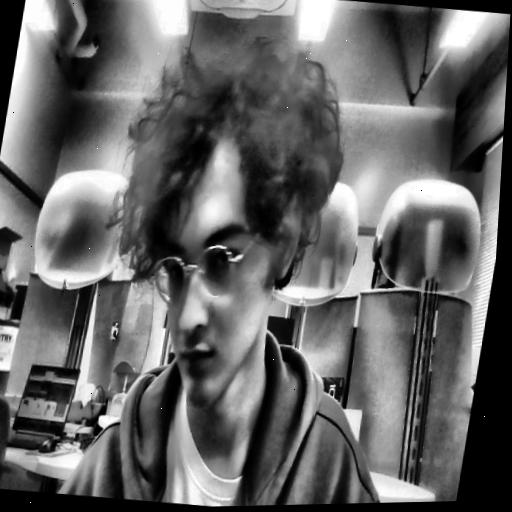Daifuku: (83, 42, 340, 396)
